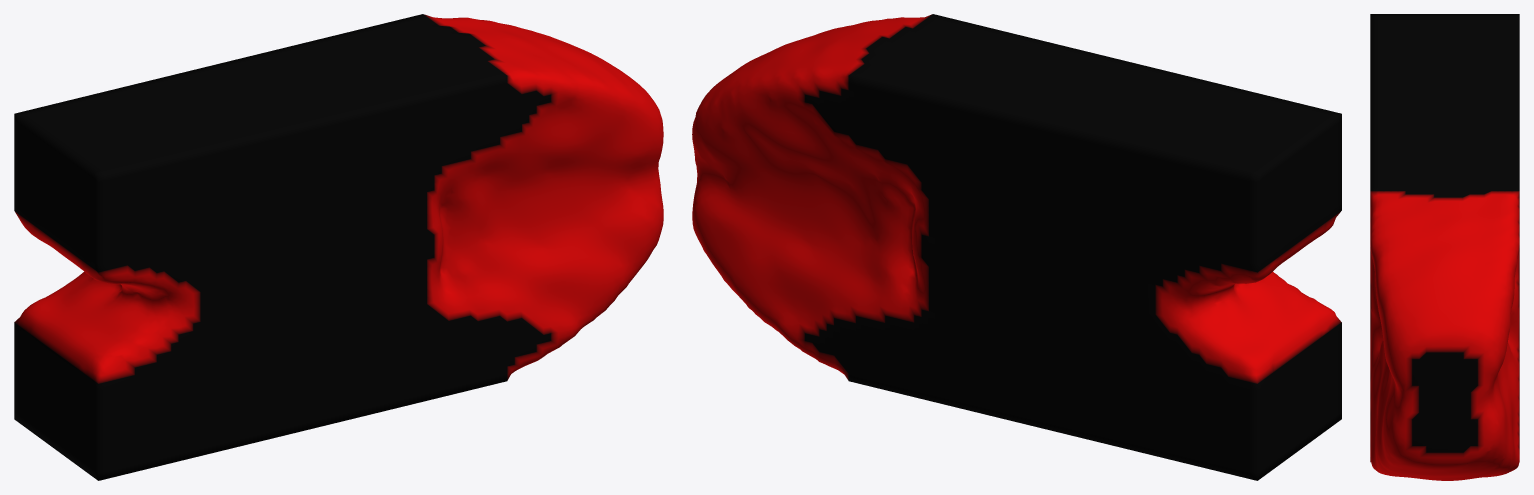
Rendered from Cant1-13_smooth.obj.
The picture shows the model from 3 angles, left to right: view 1: azimuth 30°, elevation 25°; view 2: azimuth 150°, elevation 25°; view 3: azimuth 270°, elevation 25°; orthographic projection. The views are drawn at different scales.
Size of the model in its own units: 80 by 40 by 20.
